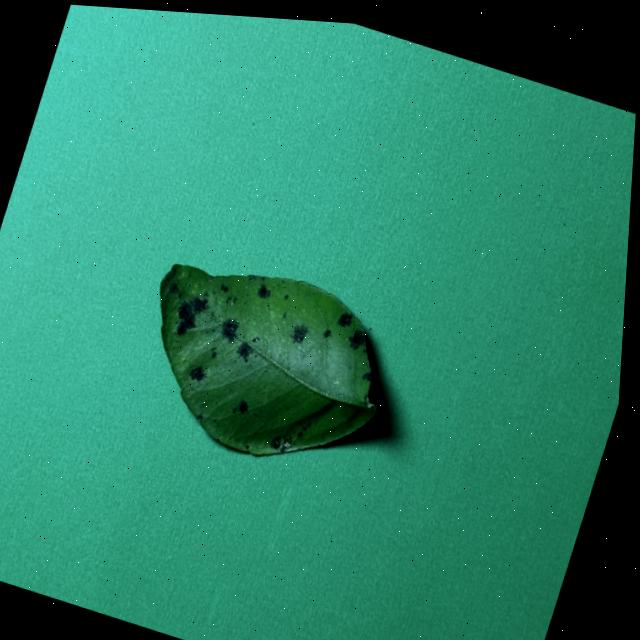sooty_mold: (160, 264, 374, 454)
